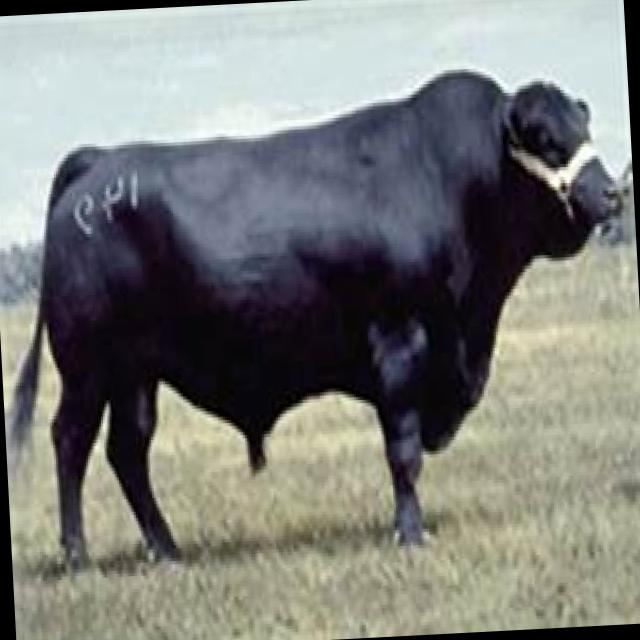animal: (0, 58, 640, 576)
